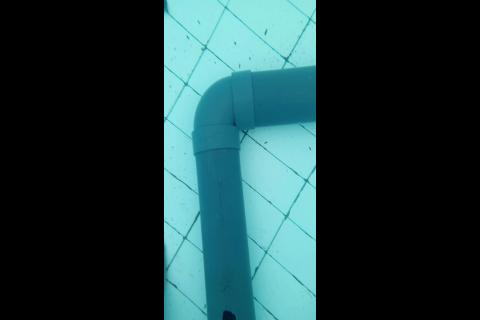kebocoran: (221, 307, 236, 320)
